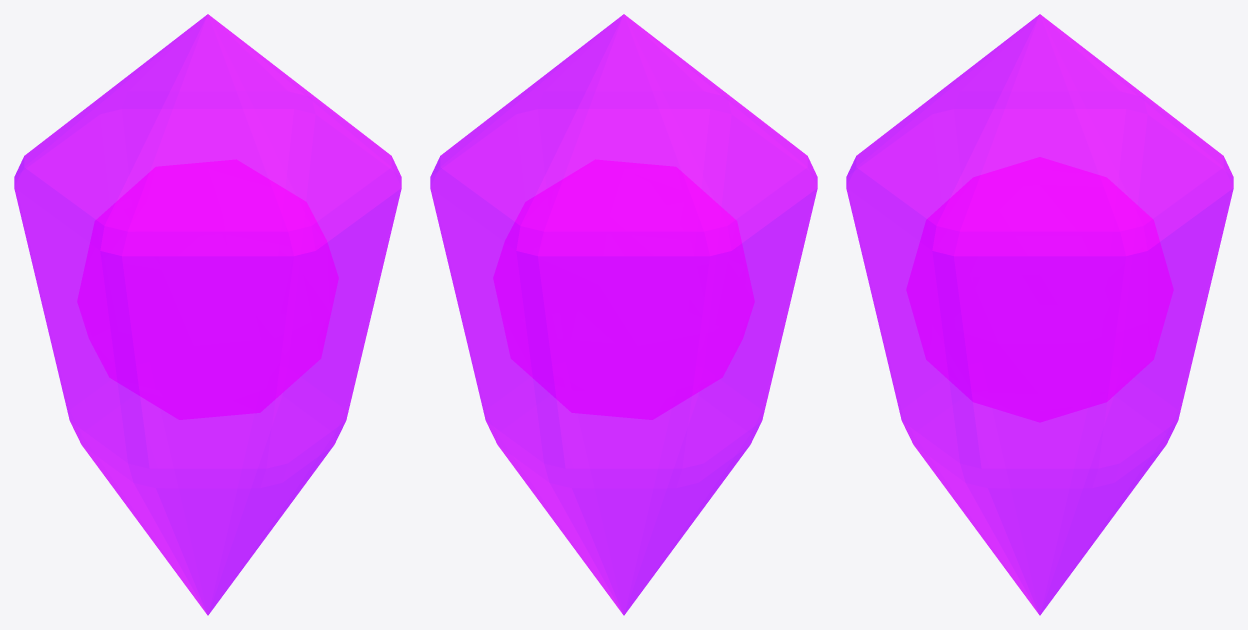
File: poin.xx.t4.fbx
The picture shows the model from 3 angles, left to right: view 1: azimuth 30°, elevation 25°; view 2: azimuth 150°, elevation 25°; view 3: azimuth 270°, elevation 25°; orthographic projection.
Parts seen in each view (by area): view 1: Cube; view 2: Cube; view 3: Cube.
Boxes of the visible parts, x1=… form: Cube: x1=14, y1=14, x2=401, y2=615; Cube: x1=430, y1=14, x2=817, y2=615; Cube: x1=846, y1=14, x2=1233, y2=615.
Size of the model in its own units: 2.44 by 4.66 by 2.72.
